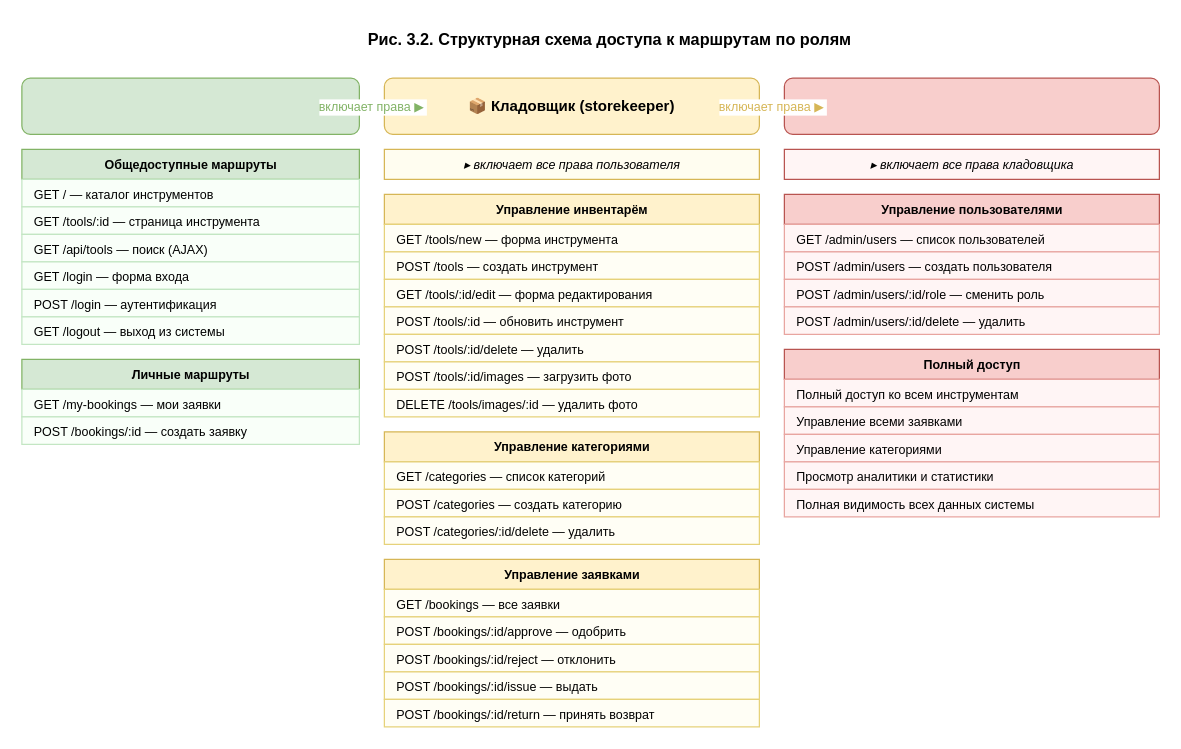
Some shapes in this 1181 by 749 pixel diagram are drawn without their labels. The centre of each missing label's shape, as x and y in pixels:
👤 Пользователь (user): the point at 190,105
👨‍💼 Администратор (admin): the point at 971,105
